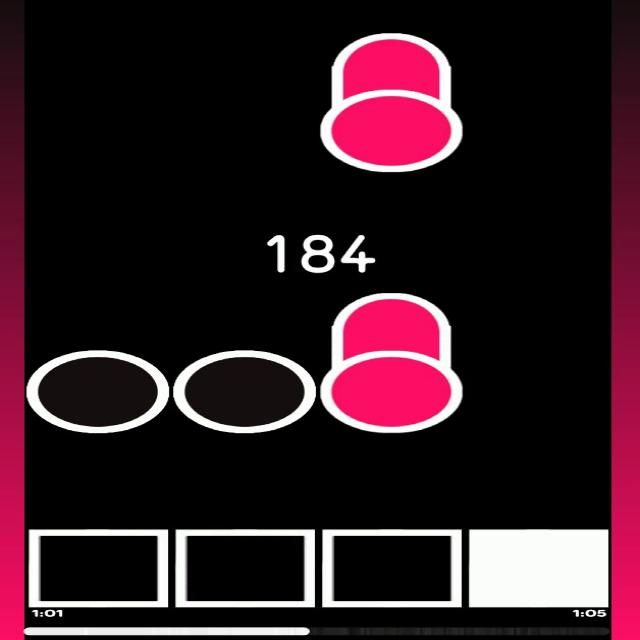end_hold: (326, 25, 457, 66), (323, 284, 459, 322)
note: (25, 349, 170, 435), (170, 350, 314, 432)
start_hold: (320, 338, 463, 435), (320, 80, 464, 174)
